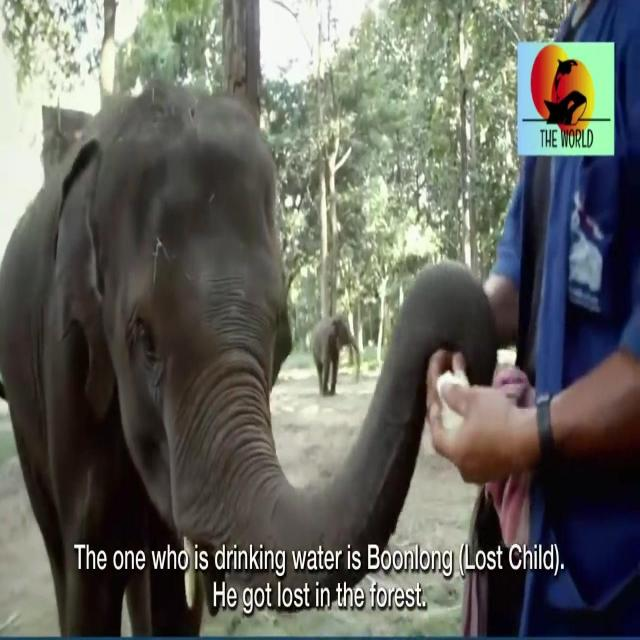Elephant: (39, 115, 274, 521), (314, 314, 347, 381)
